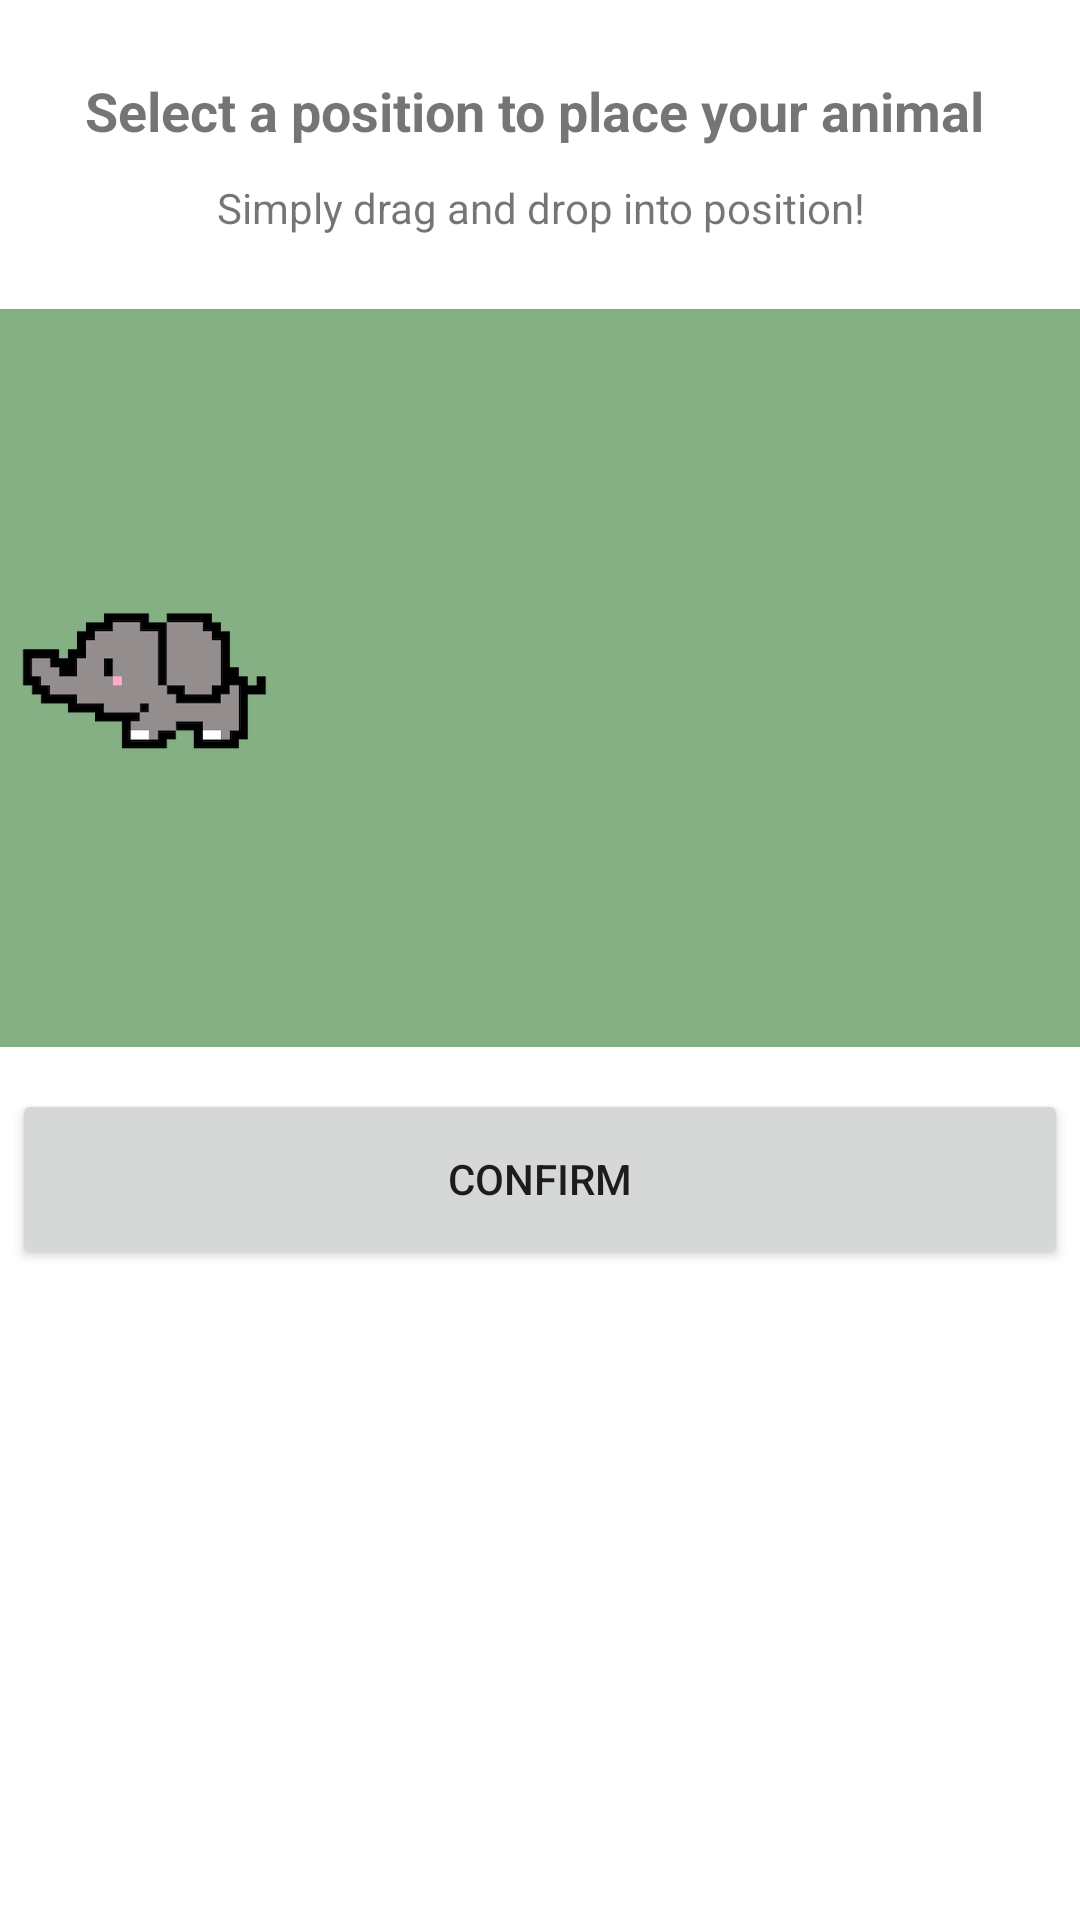

Point at icon controls on the screen. Image size 1080 x 1920, points as [x,y].
elephant: [144,681]
